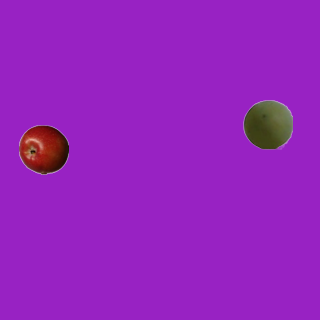Apple Braeburn: (18, 124, 68, 174)
Grape White 4: (242, 99, 292, 149)
